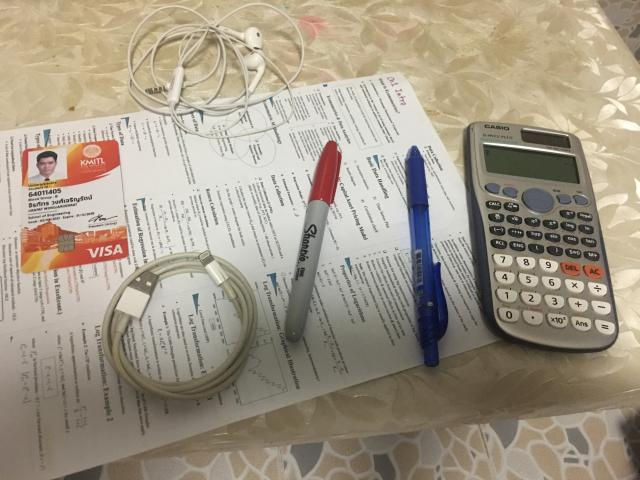Pen: (285, 141, 341, 341), (406, 145, 448, 366)
paper: (0, 72, 546, 478)
wire: (126, 2, 305, 140), (101, 251, 258, 400)
